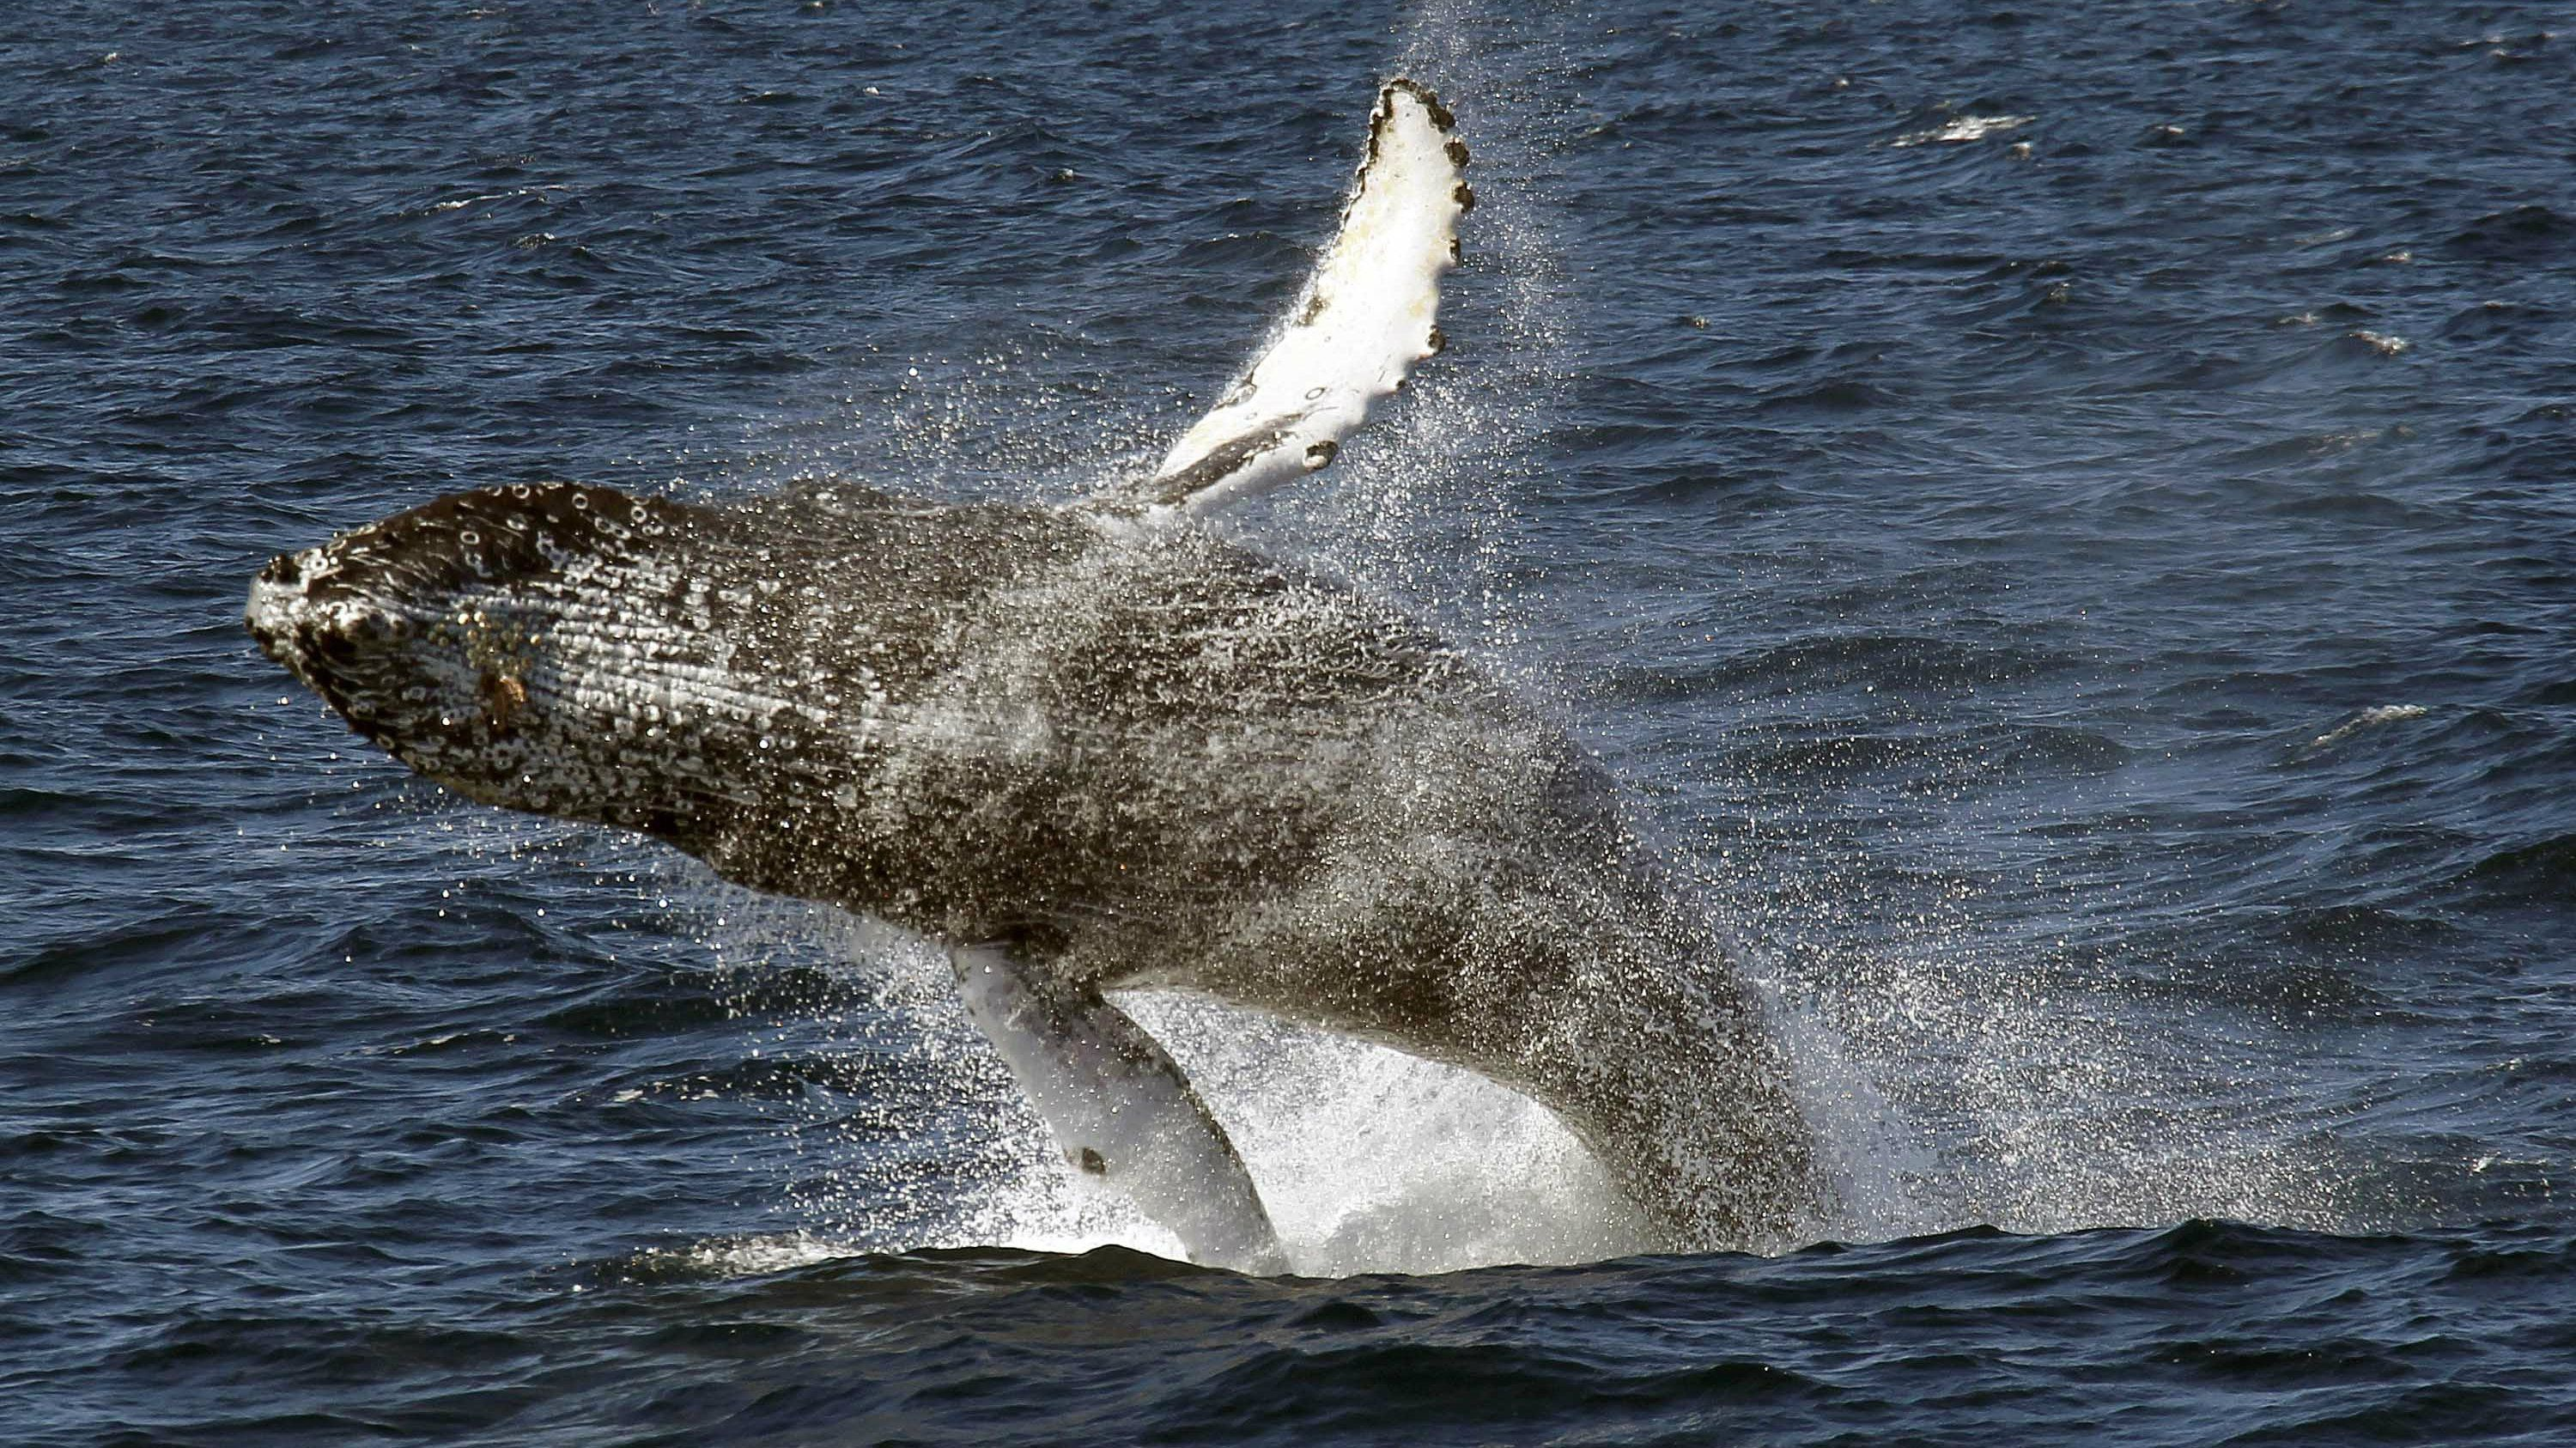humpback: (242, 506, 1865, 1243)
